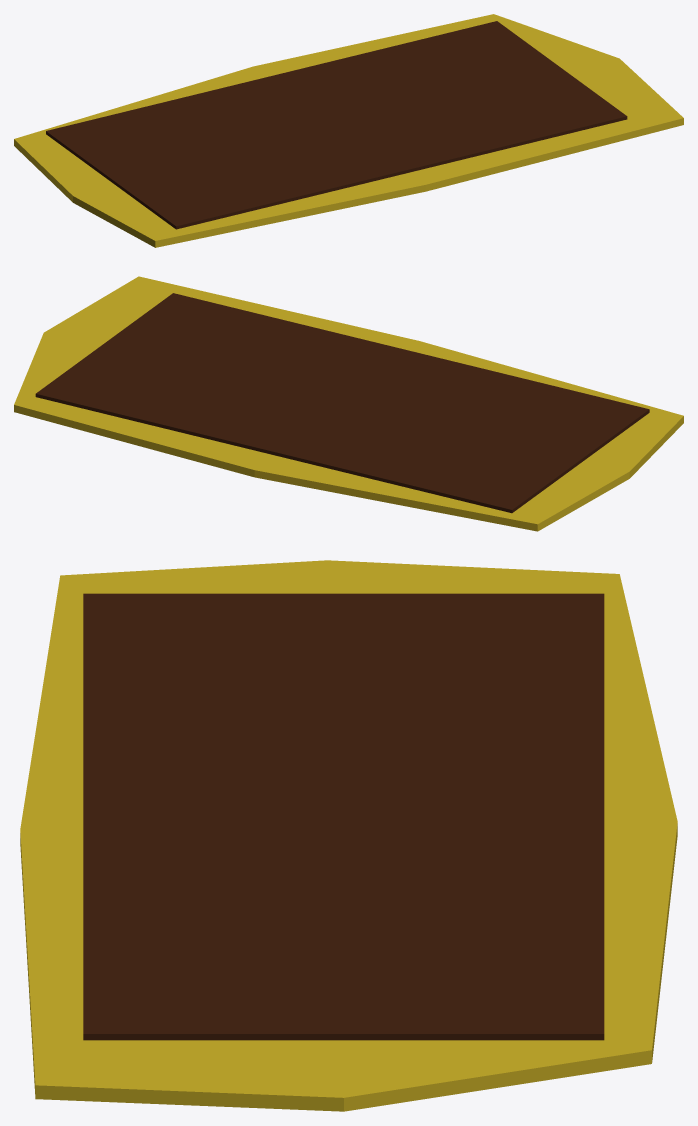
The model's file is Bed Var 1.fbx.
The picture shows the model from 3 angles, top to bottom: view 1: azimuth 30°, elevation 25°; view 2: azimuth 150°, elevation 25°; view 3: azimuth 270°, elevation 25°; orthographic projection. The views are drawn at different scales.
Visible parts, largest first — view 1: Bed Var 1; view 2: Bed Var 1; view 3: Bed Var 1.
Boxes of the visible parts, x1,y1,x2,y2 form: Bed Var 1: (14,14,683,247); Bed Var 1: (14,276,683,531); Bed Var 1: (20,560,677,1111).
Size of the model in its own units: 244 by 4.58 by 126.
